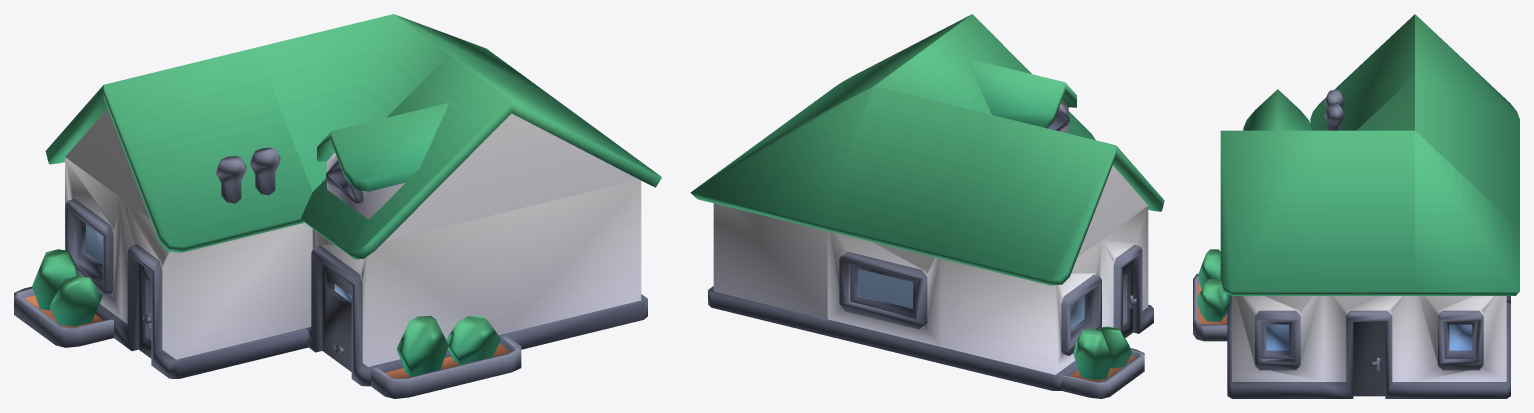
Rendered from n1_building-type-m_lev1.glb.
3 renders of one model, left to right at view 1: azimuth 30°, elevation 25°; view 2: azimuth 150°, elevation 25°; view 3: azimuth 270°, elevation 25°, orthographic. The views are drawn at different scales.
Parts seen in each view (by area): view 1: n1_building-type-m_lev1; view 2: n1_building-type-m_lev1; view 3: n1_building-type-m_lev1.
Boxes of the visible parts, box(x1,y1,x2,y2) form: n1_building-type-m_lev1: box(14, 14, 661, 398); n1_building-type-m_lev1: box(690, 14, 1164, 398); n1_building-type-m_lev1: box(1193, 14, 1519, 398).
Size of the model in its own units: 11.07 by 5.55 by 7.8.
1 material, 1 textured.
